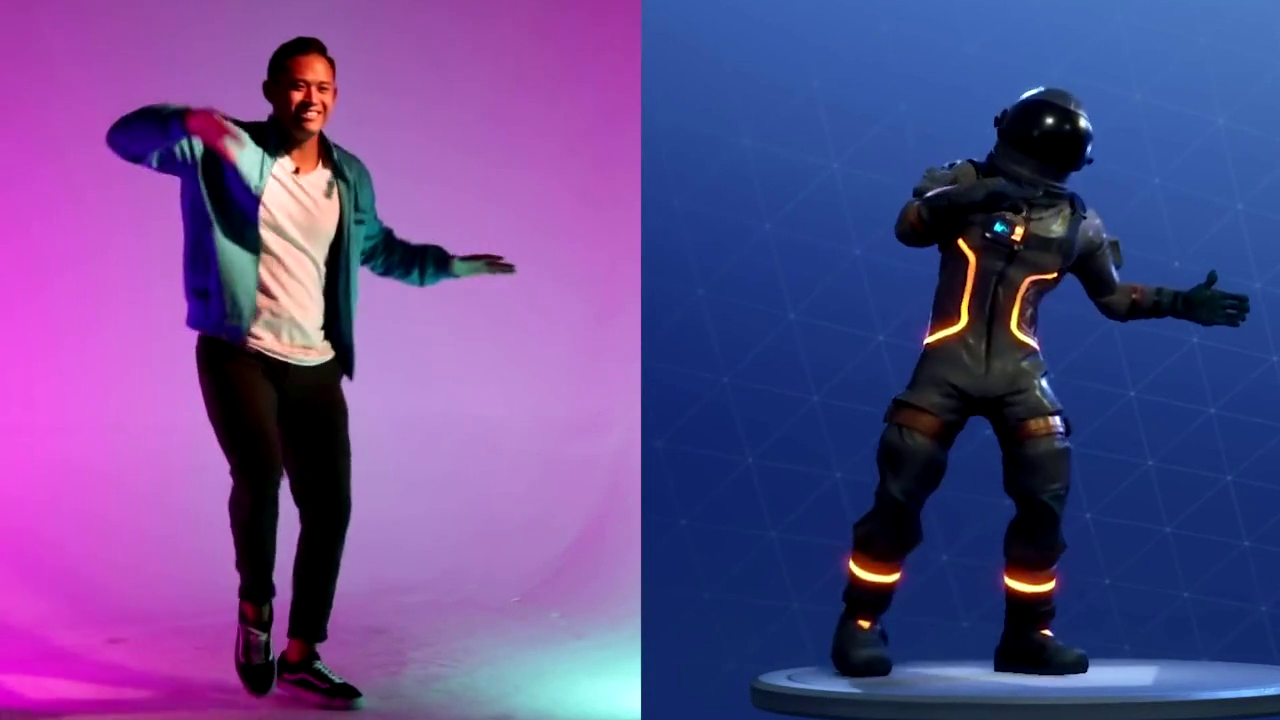Head: (252, 15, 365, 139)
Hip: (164, 336, 401, 477)
LeftAnkle: (272, 607, 390, 717)
LeftElbow: (344, 199, 421, 296)
LeftKnee: (292, 459, 371, 552)
LeftShoulder: (326, 132, 390, 206)
LeftWrist: (429, 223, 523, 310)
RightAnkle: (199, 580, 295, 706)
RightElbow: (82, 93, 194, 170)
RightKnee: (205, 449, 287, 520)
RightWrist: (165, 91, 260, 179)
Torso: (196, 121, 381, 375)
